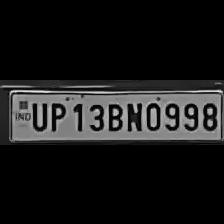0: (141, 99, 161, 131)
1: (67, 100, 85, 132)
3: (85, 100, 105, 132)
8: (198, 99, 218, 131)
9: (180, 99, 200, 131), (162, 99, 180, 131)
B: (104, 100, 124, 132)
N: (122, 100, 142, 132)
P: (47, 100, 67, 132)
U: (28, 99, 48, 131)
